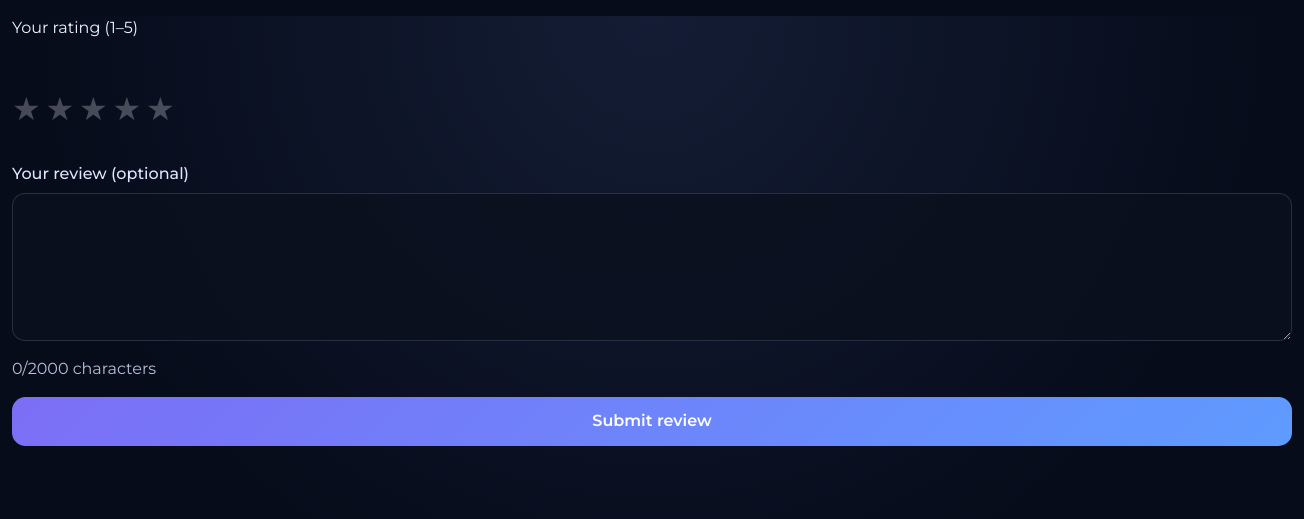
Test: [TC-FE-RATE-07] removes stale success feedback when a new draft begins
Click the button named "Rate 5 stars": (160, 109) [146,85,175,133]
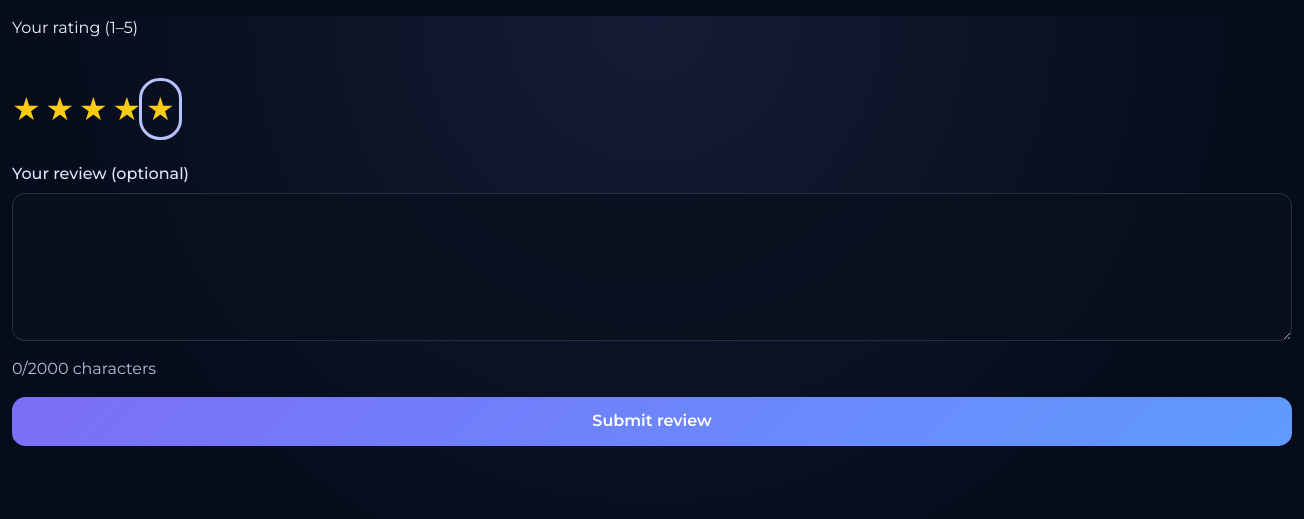
Click the button "Submit review": (652, 421) [12,397,1292,446]
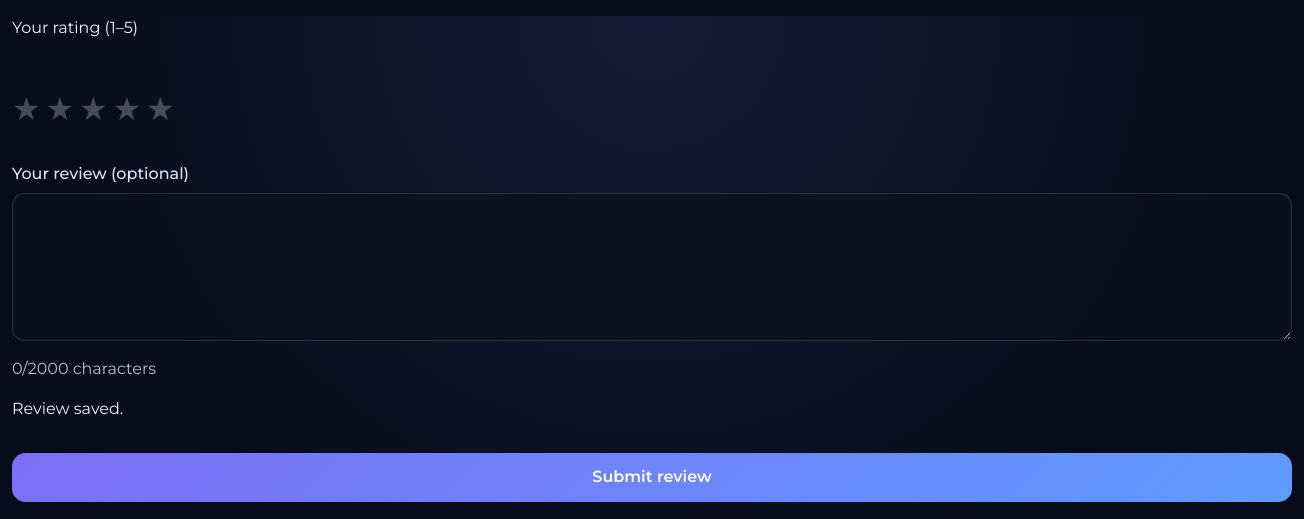
Now the text "Review saved." is shown, box [12,399,123,418]
In the text box: (652, 267) [12,193,1292,341], type "New draft"
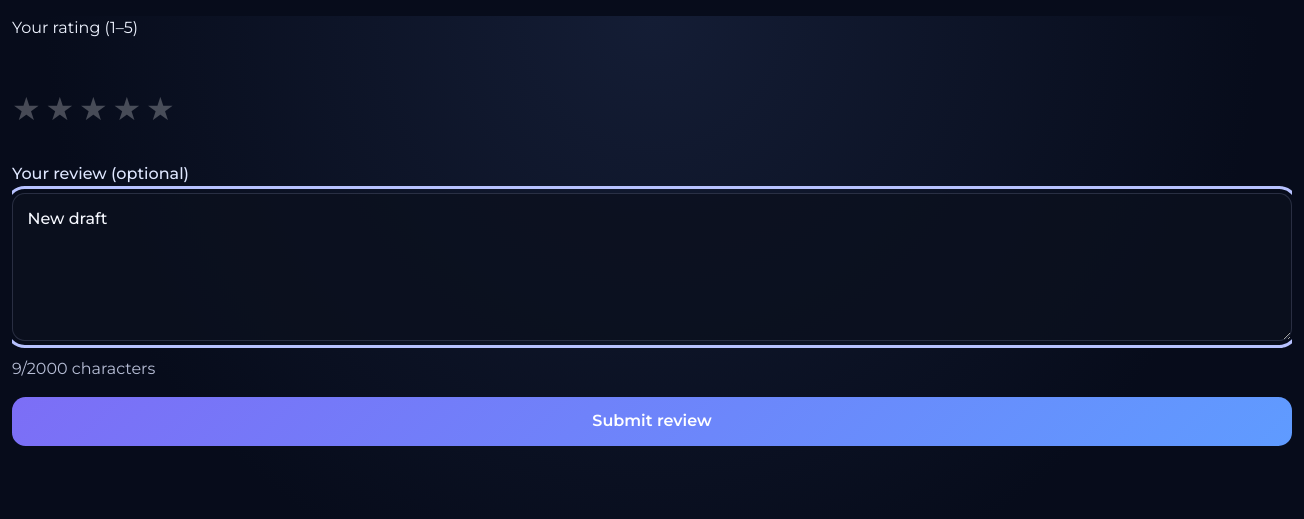
Now the text "Review saved." is gone
